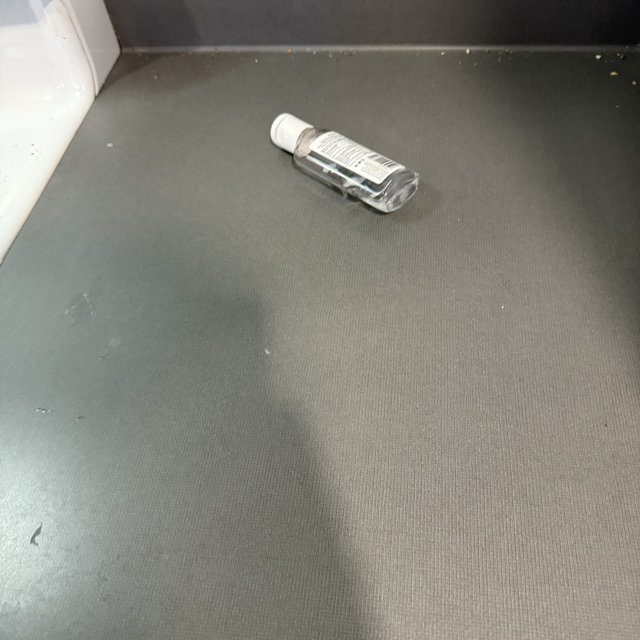Sanitizer: (253, 106, 457, 243)
